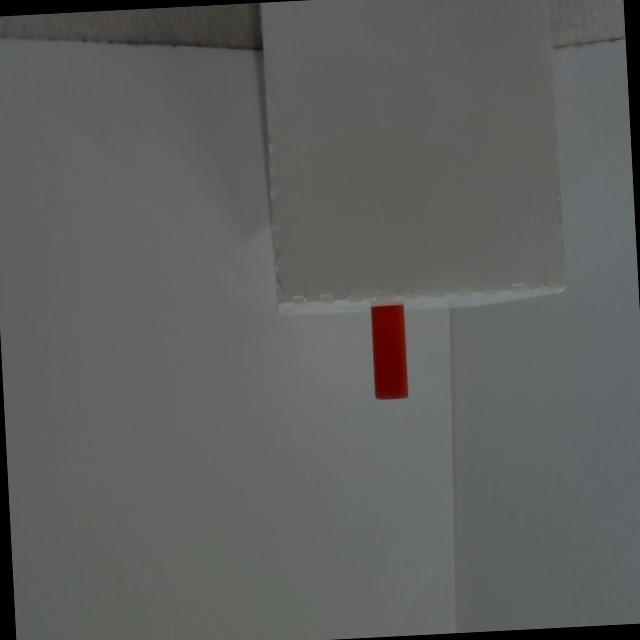red_cylinder: (371, 304, 409, 400)
